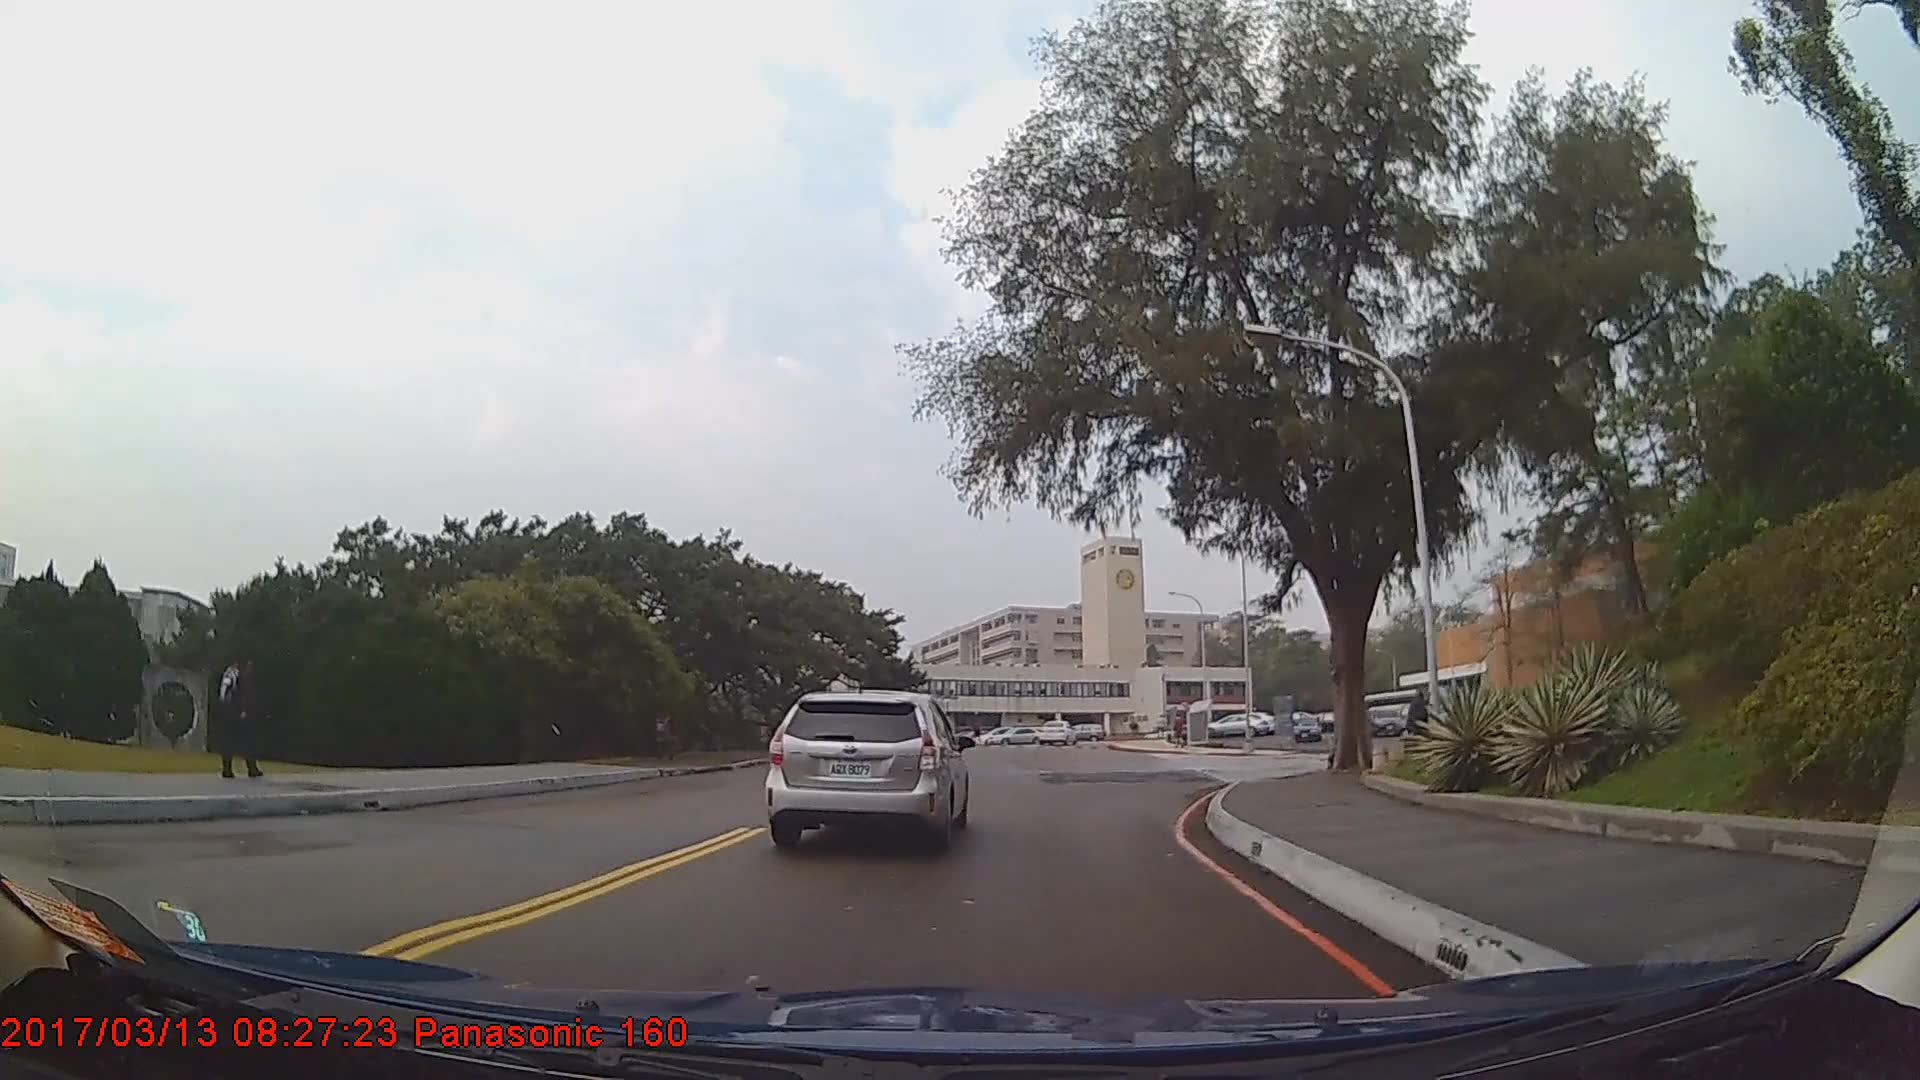pedestrian: (213, 639, 273, 777), (1405, 686, 1433, 770)
vehicle: (765, 684, 966, 847), (1205, 708, 1270, 735), (986, 721, 1048, 746), (1036, 717, 1080, 744), (1370, 702, 1401, 732), (1291, 714, 1320, 742)
